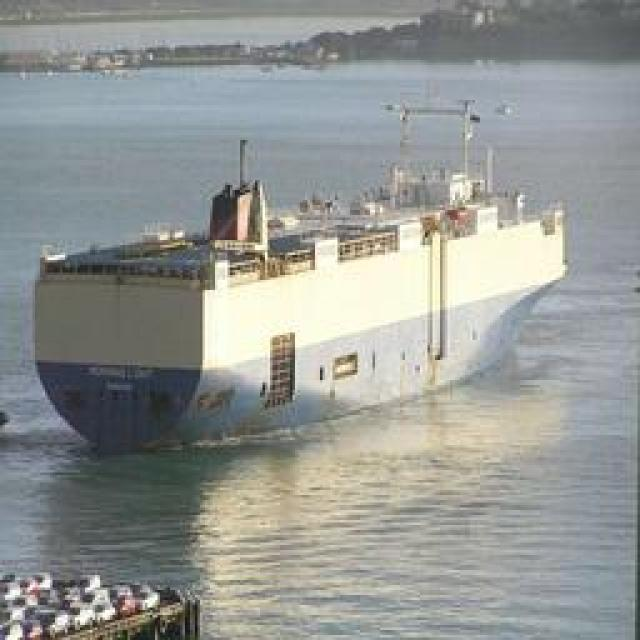CIV_Ship: (36, 128, 576, 452)
